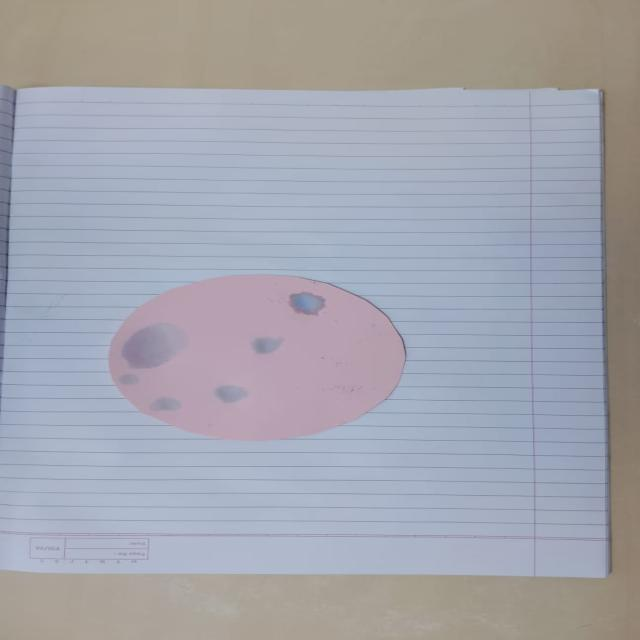BlueColor: (121, 323, 188, 369), (289, 292, 325, 315), (214, 385, 247, 403), (252, 337, 283, 354), (150, 397, 180, 412), (119, 373, 140, 387)
